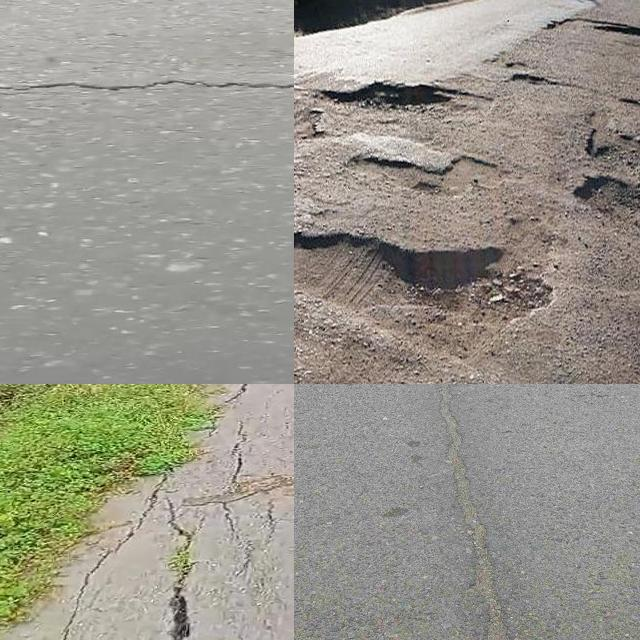Lubang: (294, 225, 563, 330), (310, 77, 490, 117), (567, 176, 640, 236)
Melintang: (0, 59, 294, 105)
Memanjang: (415, 384, 520, 640)
Pinggir: (0, 384, 288, 640)
